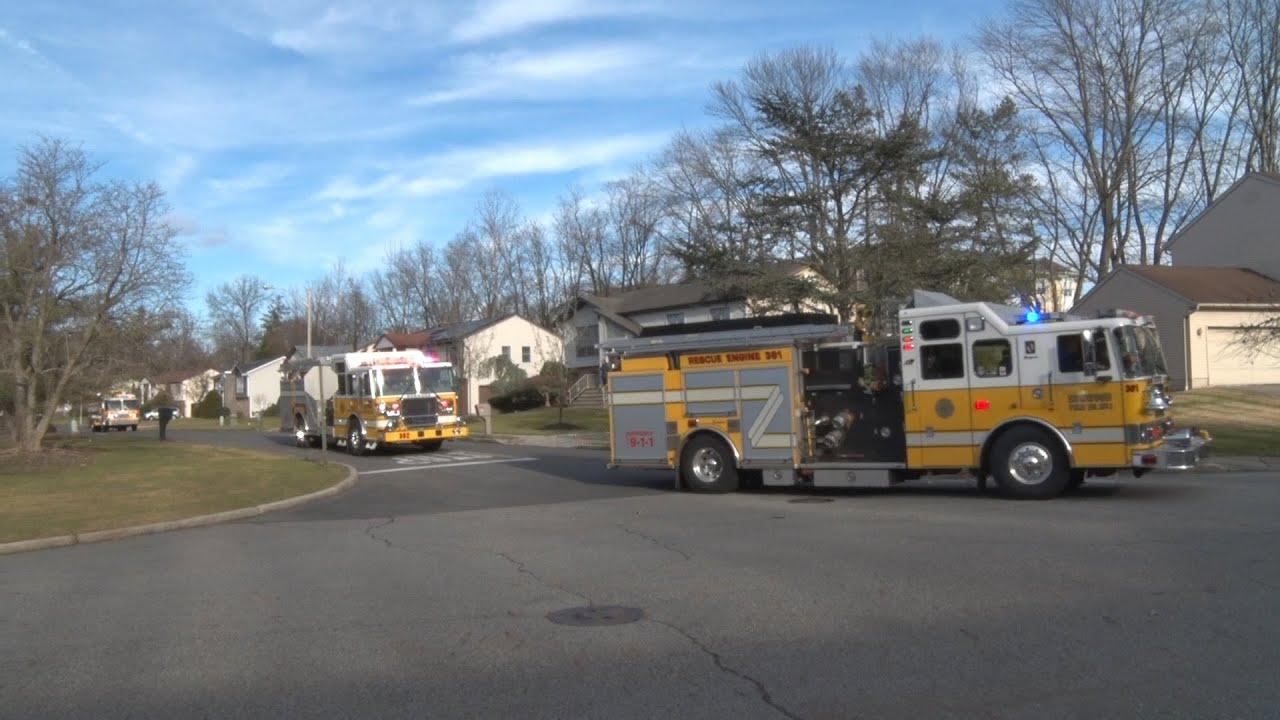firetruck_on: (597, 296, 1211, 494), (276, 346, 469, 453), (86, 386, 140, 433)
